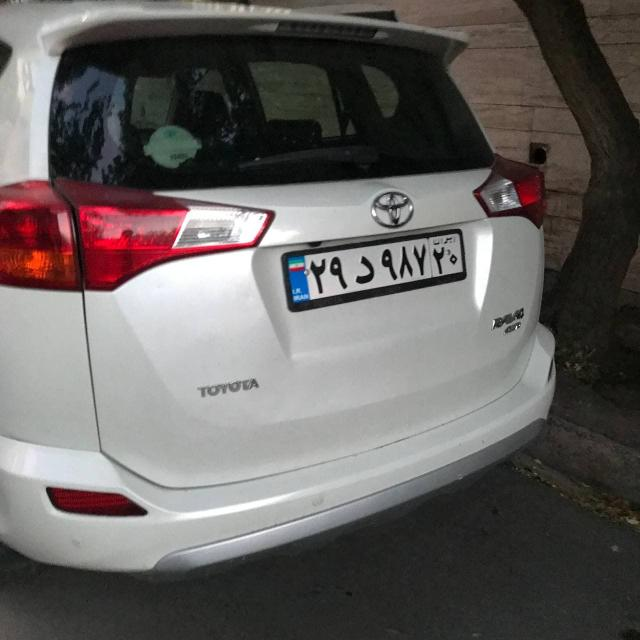Plates: (285, 227, 466, 303)
